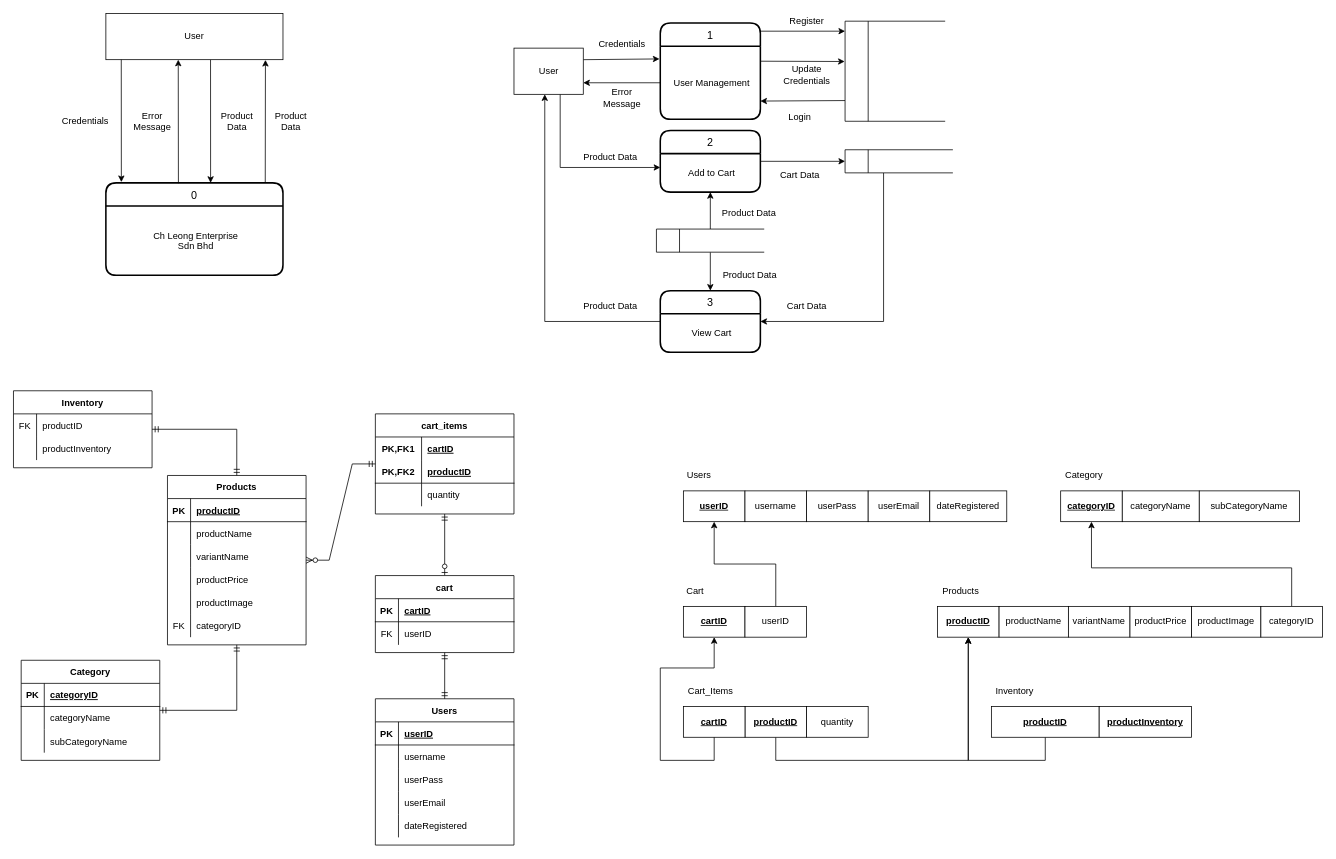
This 1336x859 diagram has some shape labels left out. The centre of each missing label's shape, as x and y in pixels:
D1 User Database: [894,70]
D2 Cart Database: [898,161]
D3 Product Database: [710,240]
